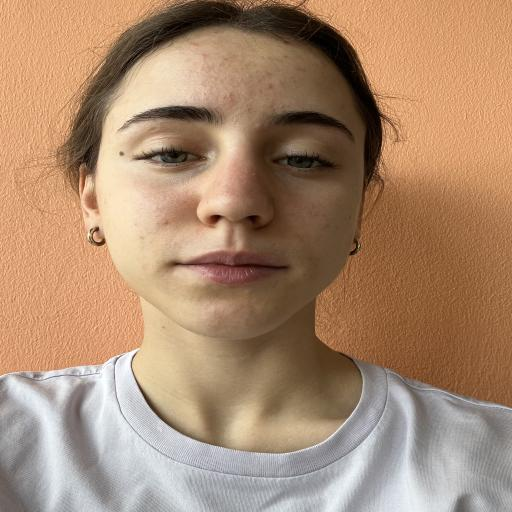masa: (96, 21, 366, 340)
